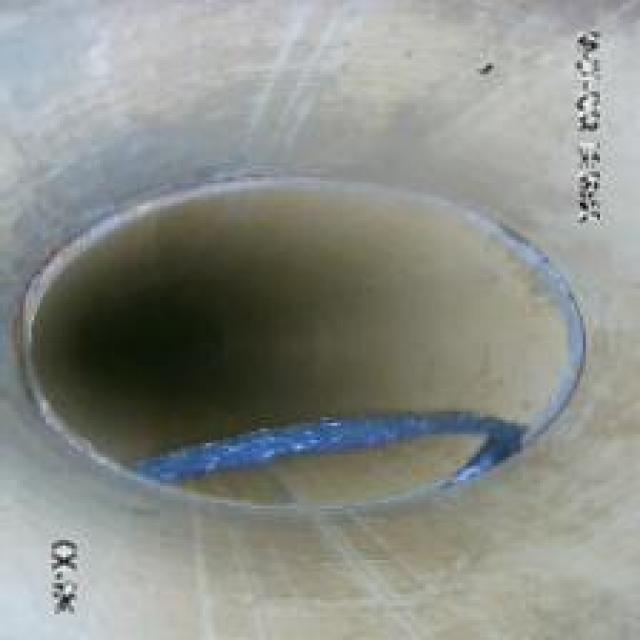joint: (6, 166, 600, 511)
